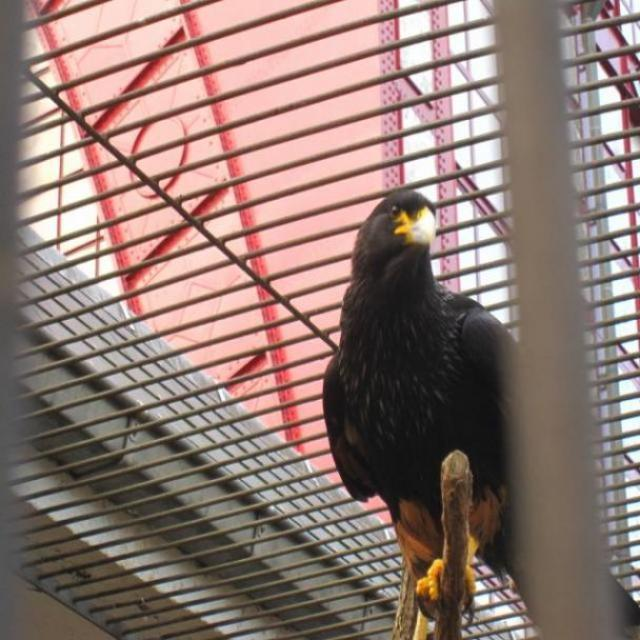Chicken: (303, 202, 496, 601)
